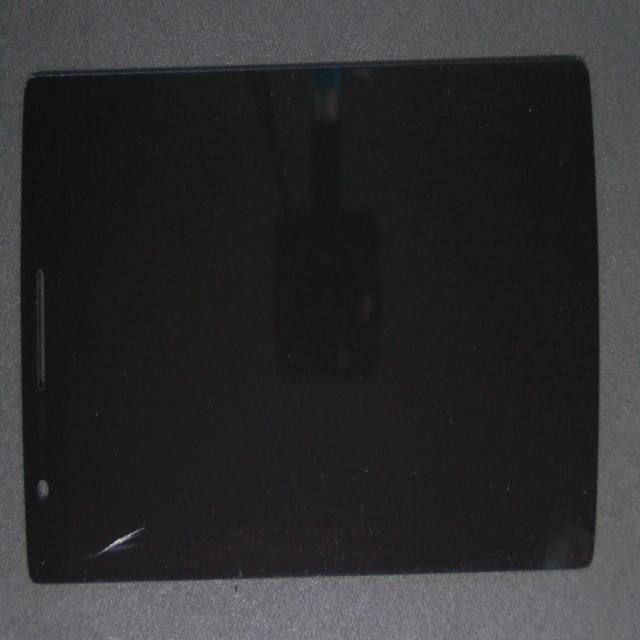scratch: (109, 246, 198, 640)
